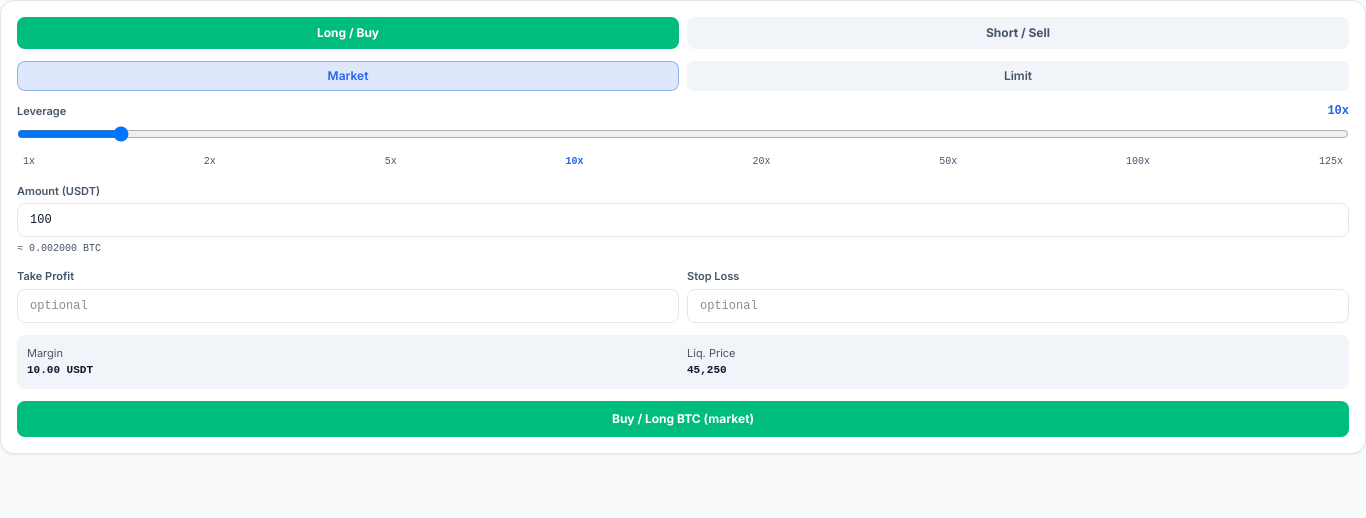
Scenario: OrderForm › shows error when limit price missing
Click the button with test id "type-limit": [1018, 76] box [687,61,1349,91]
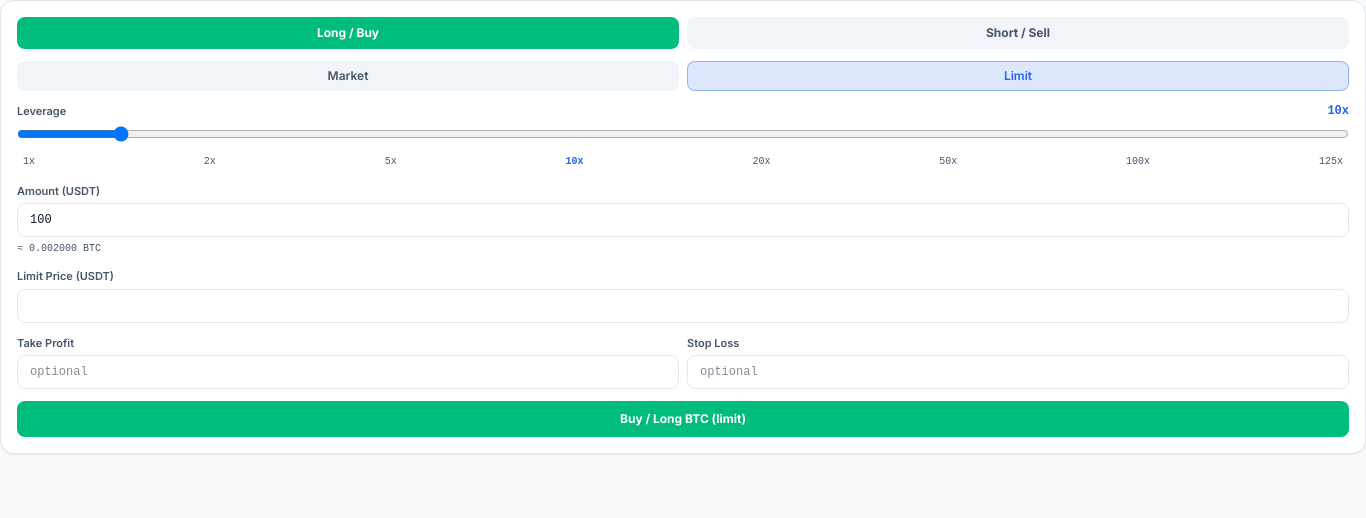
Replace the text in the number field with test id "notional-input" with "200": [683, 220] box [17,203,1349,237]
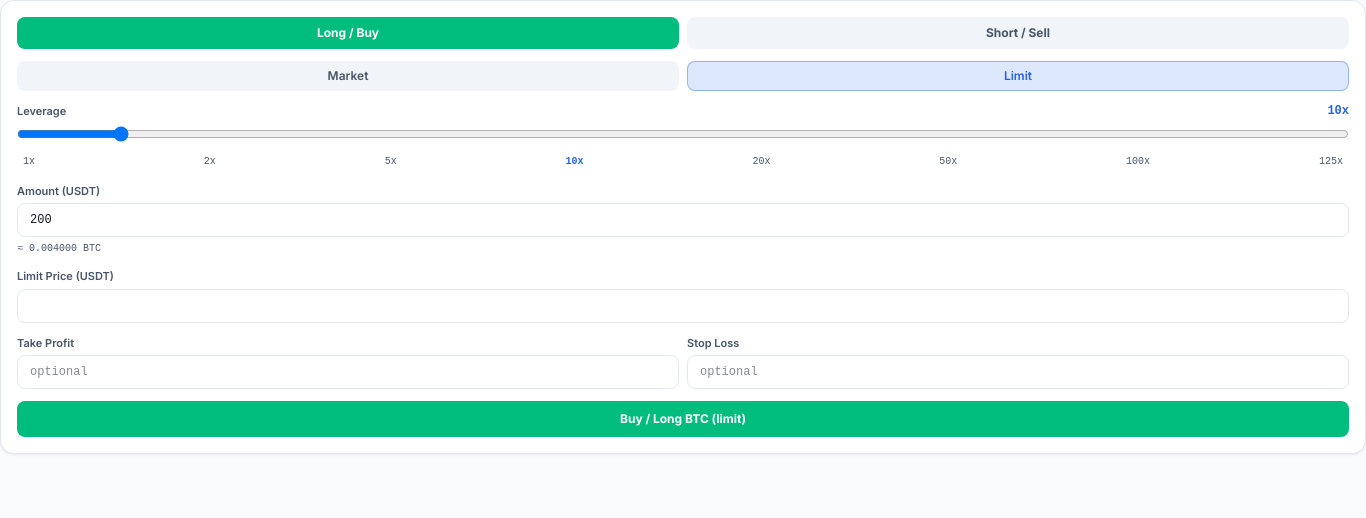
Click the button with test id "order-submit": [683, 419] box [17,401,1349,437]
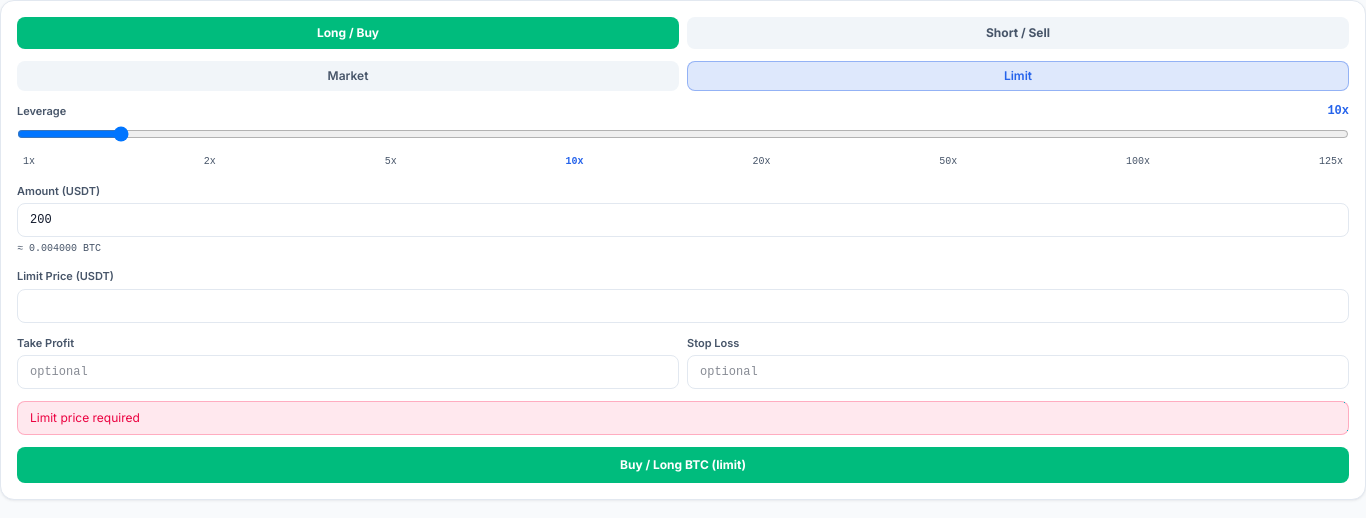
Expected: the message "Limit price required" is shown, [17,401,1349,435]
